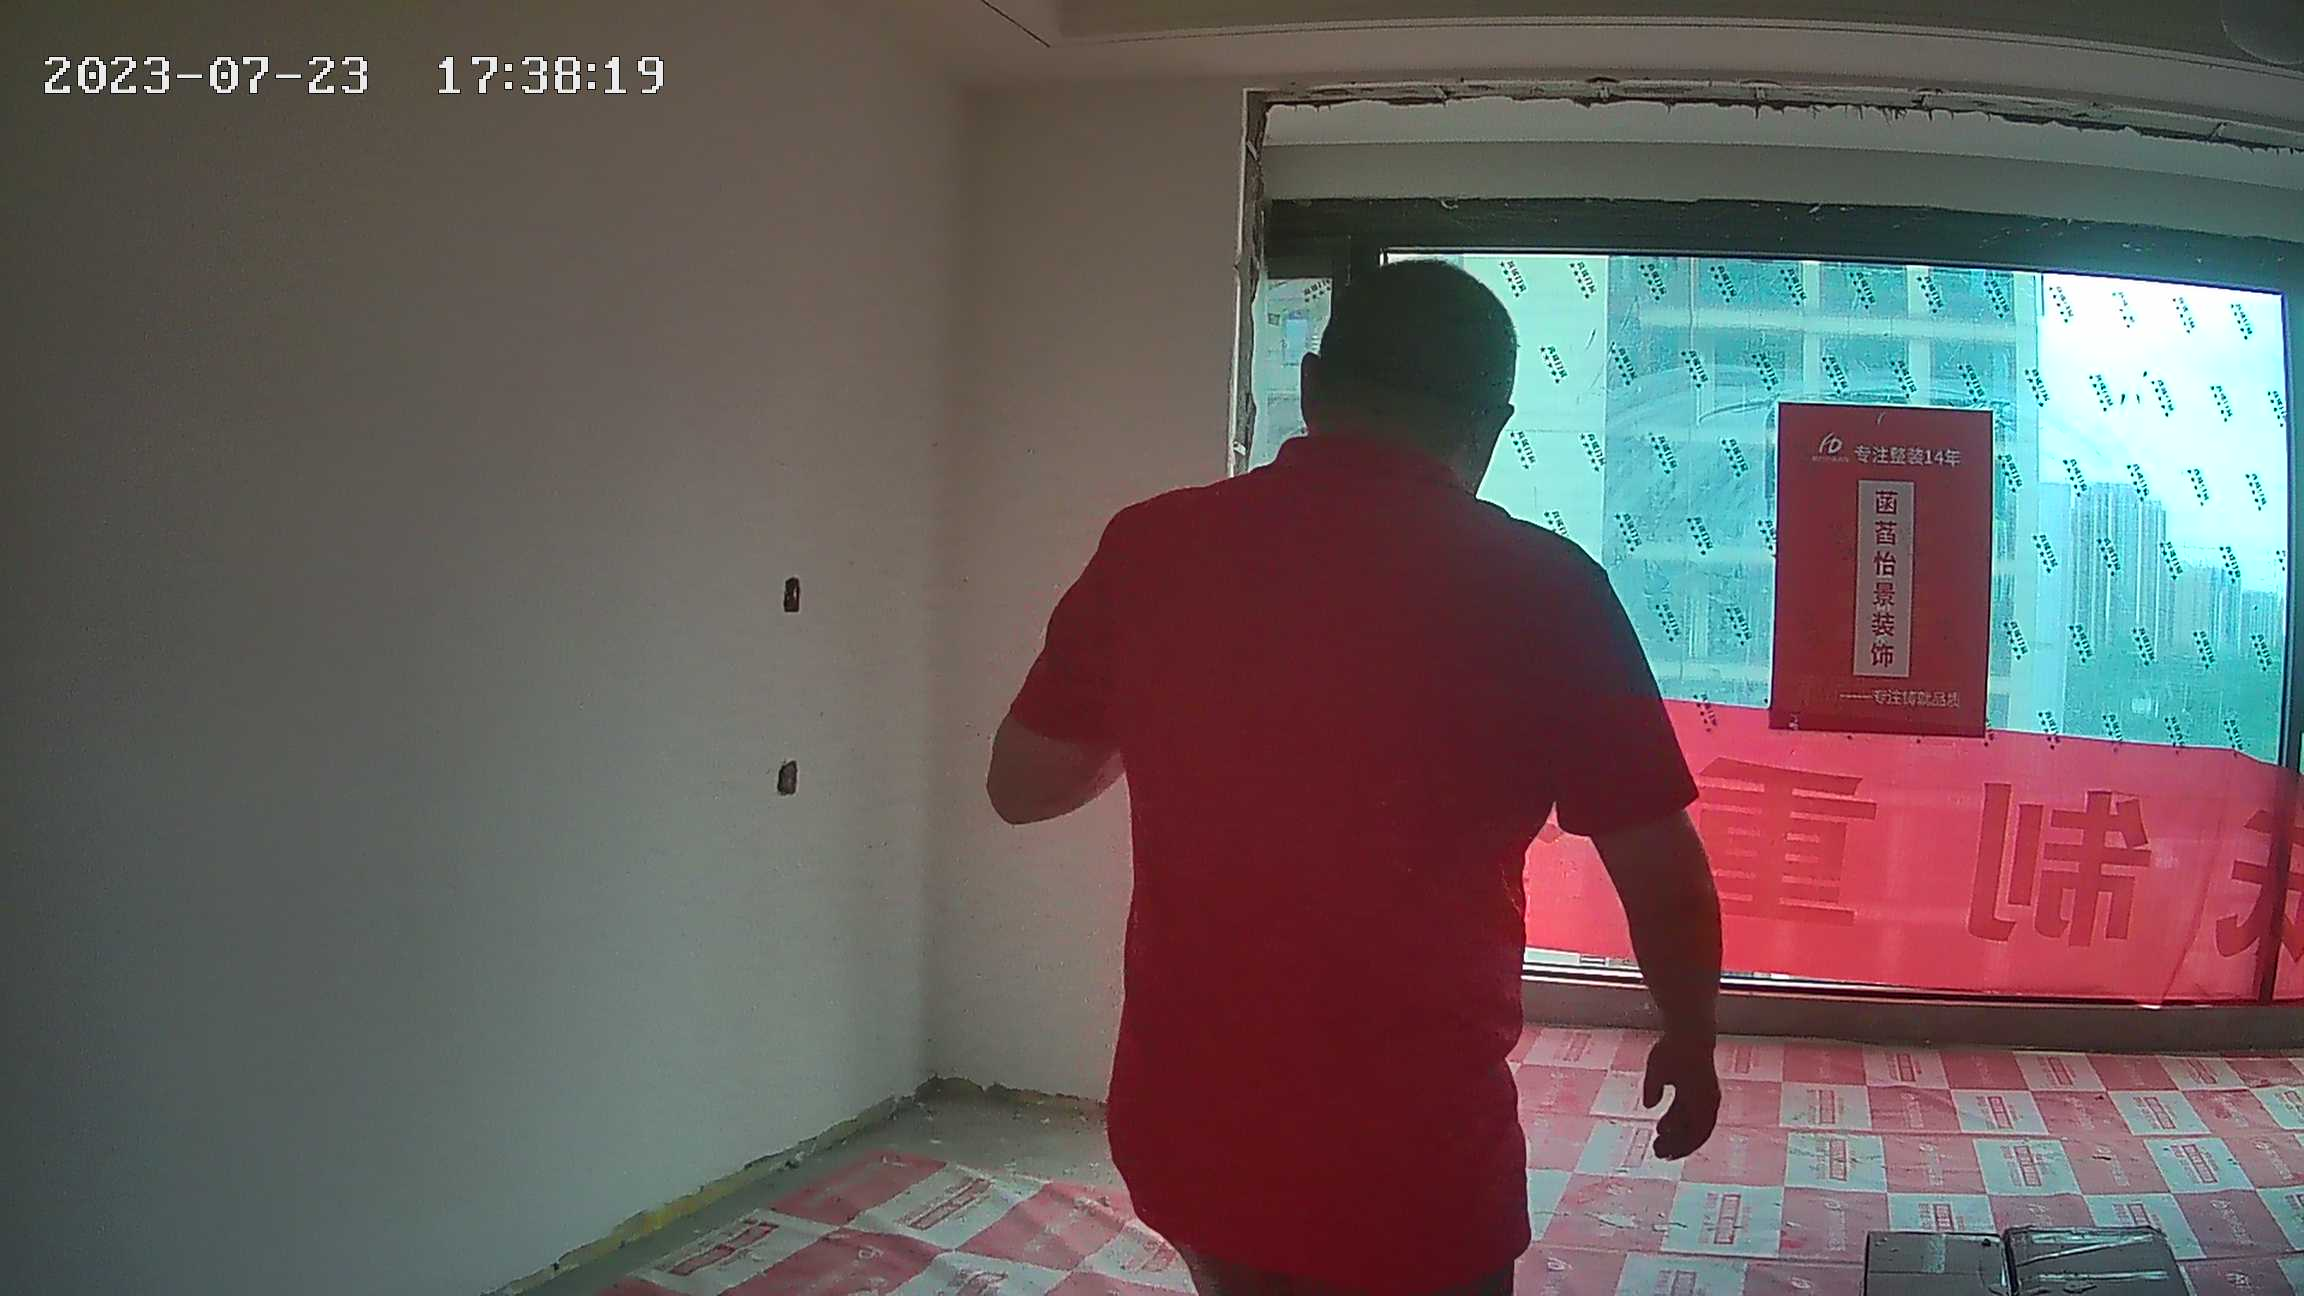people: (980, 258, 1732, 1294)
window: (1523, 301, 2291, 991)
